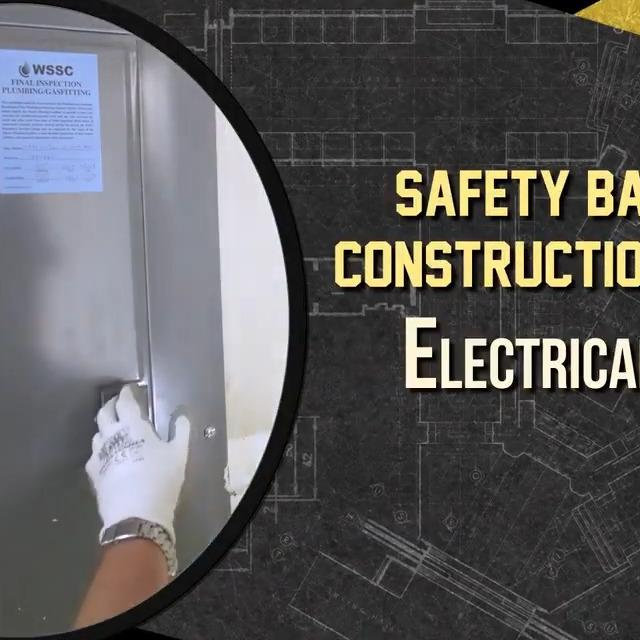Gloves: (83, 382, 192, 539)
Person: (73, 378, 194, 629)
